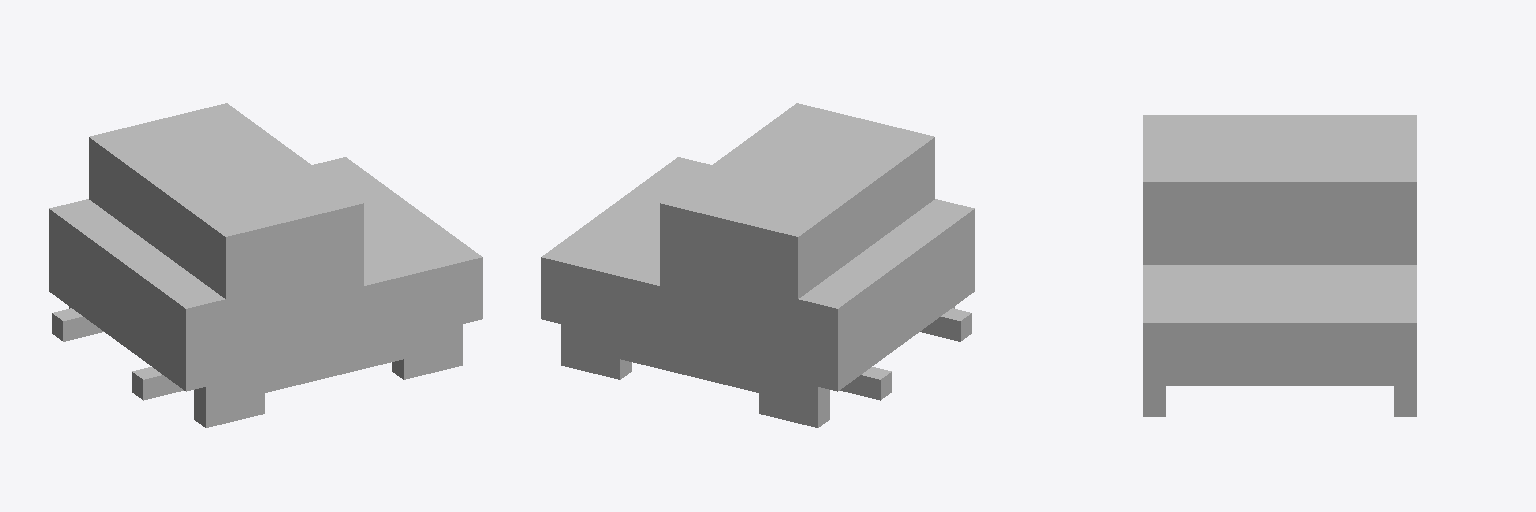
The model's file is kocsi.1..obj.
The picture shows the model from 3 angles: view 1: azimuth 30°, elevation 25°; view 2: azimuth 150°, elevation 25°; view 3: azimuth 270°, elevation 25°; orthographic projection.
Size of the model in its own units: 16 by 9 by 12.